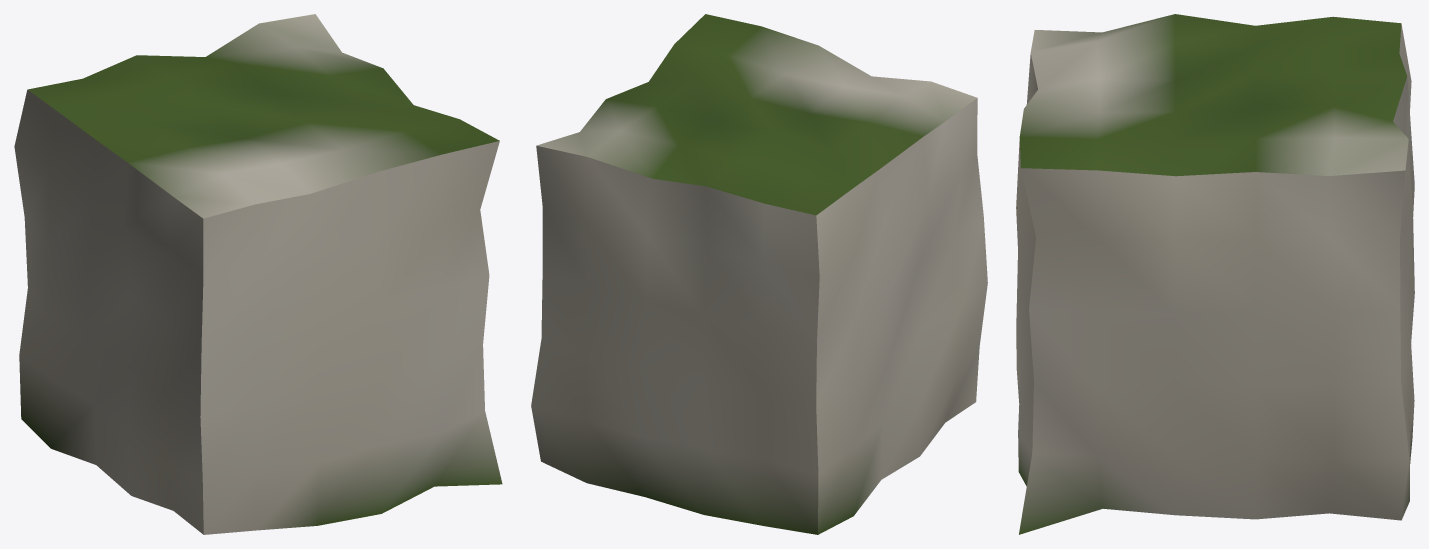
The model's file is block-b.glb.
3 renders of one model, left to right at view 1: azimuth 30°, elevation 25°; view 2: azimuth 150°, elevation 25°; view 3: azimuth 270°, elevation 25°, orthographic. The views are drawn at different scales.
Visible parts, largest first — view 1: block-b; view 2: block-b; view 3: block-b.
Part boxes in pixels (x1=…): block-b: x1=14, y1=14, x2=502, y2=534; block-b: x1=531, y1=14, x2=987, y2=534; block-b: x1=1016, y1=14, x2=1414, y2=534.
Size of the model in its own units: 0.3591 by 0.3854 by 0.3773.
